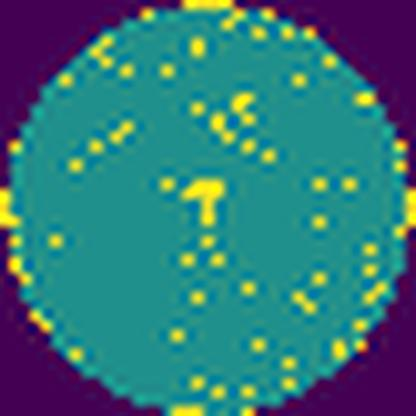Center: (178, 178, 228, 242)
